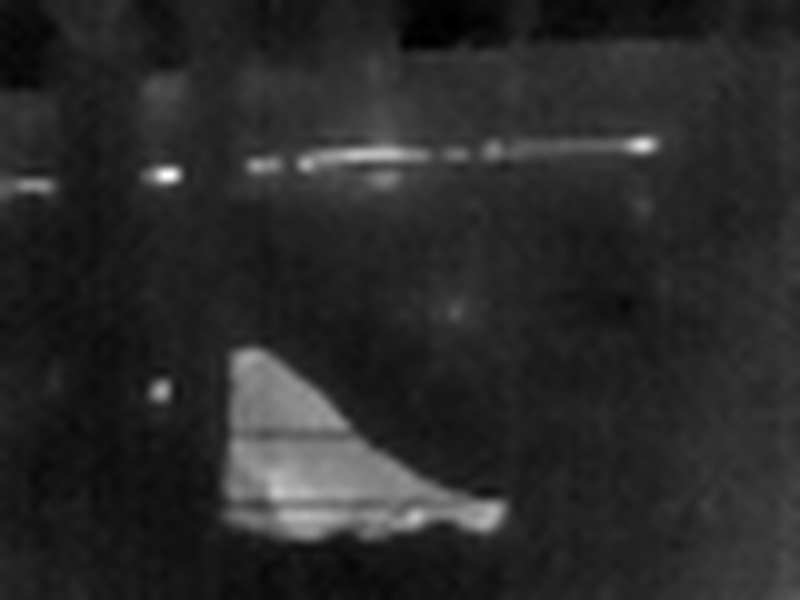elephant: (130, 344, 515, 585)
